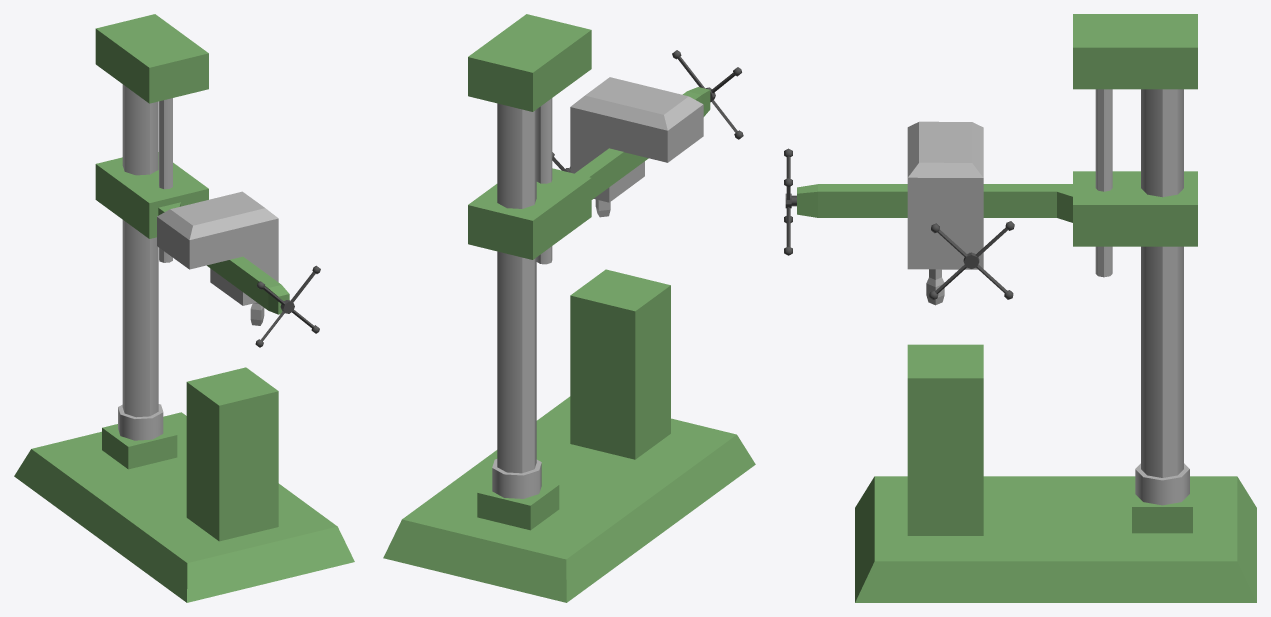
File: SM_Machine_02.fbx
3 views of the same model, side by side, from view 1: azimuth 30°, elevation 25°; view 2: azimuth 150°, elevation 25°; view 3: azimuth 270°, elevation 25° (orthographic). The views are drawn at different scales.
Parts seen in each view (by area): view 1: SM_Machine_02; view 2: SM_Machine_02; view 3: SM_Machine_02.
Part boxes in pixels (x1,y1,x2,y2): SM_Machine_02: (14,14,354,602); SM_Machine_02: (383,14,755,602); SM_Machine_02: (784,14,1256,602).
Bounding box in the file's own units: 67.57 × 174 × 142.
